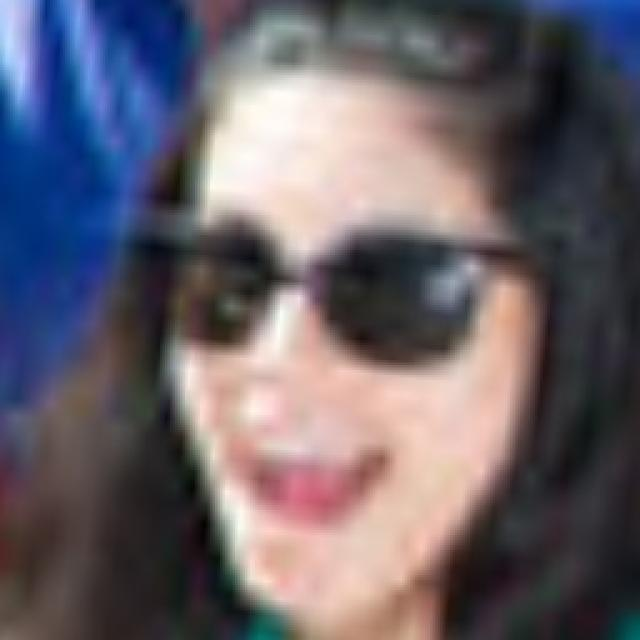glasses: (117, 203, 551, 385)
